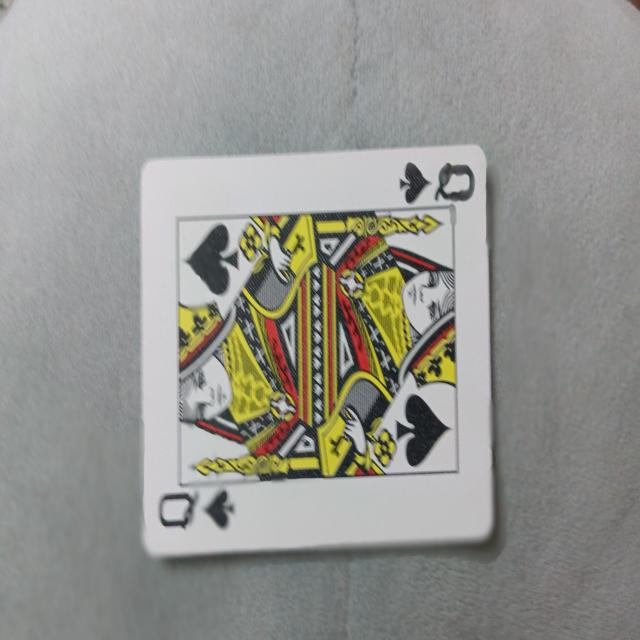QS: (137, 156, 499, 552)
